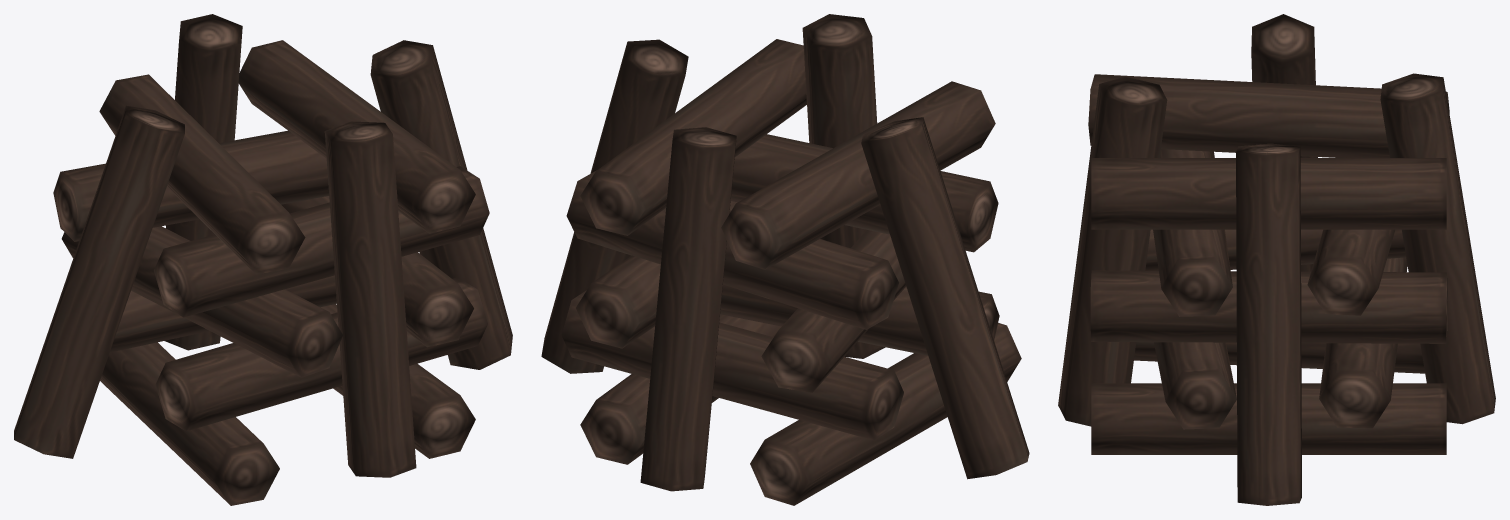
The model's file is env_BonFire.fbx.
The picture shows the model from 3 angles, left to right: view 1: azimuth 30°, elevation 25°; view 2: azimuth 150°, elevation 25°; view 3: azimuth 270°, elevation 25°; orthographic projection.
Parts seen in each view (by area): view 1: env_BonFire; view 2: env_BonFire; view 3: env_BonFire.
Part boxes in pixels (x1,y1,x2,y2): env_BonFire: (14,14,512,505); env_BonFire: (541,14,1029,505); env_BonFire: (1058,14,1495,505).
Bounding box in the file's own units: 214 × 138 × 167.
